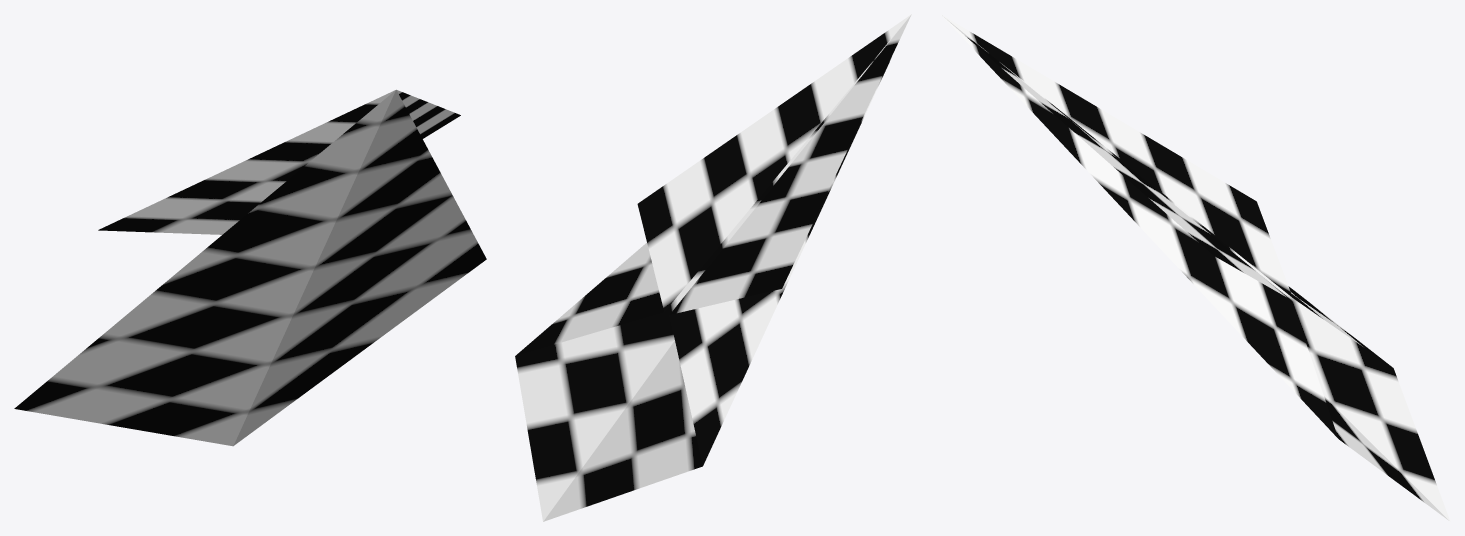
Rendered from initqu40.dae.
3 views of the same model, side by side, from view 1: azimuth 30°, elevation 25°; view 2: azimuth 150°, elevation 25°; view 3: azimuth 270°, elevation 25° (orthographic). The views are drawn at different scales.
Parts seen in each view (by area): view 1: item; view 2: item; view 3: item.
Boxes of the visible parts, <box> form: item: <box>14,89,486,446</box>; item: <box>515,14,911,521</box>; item: <box>941,14,1450,521</box>.
Size of the model in its own units: 0.8637 by 1.46 by 1.35.
1 material, 1 textured.
